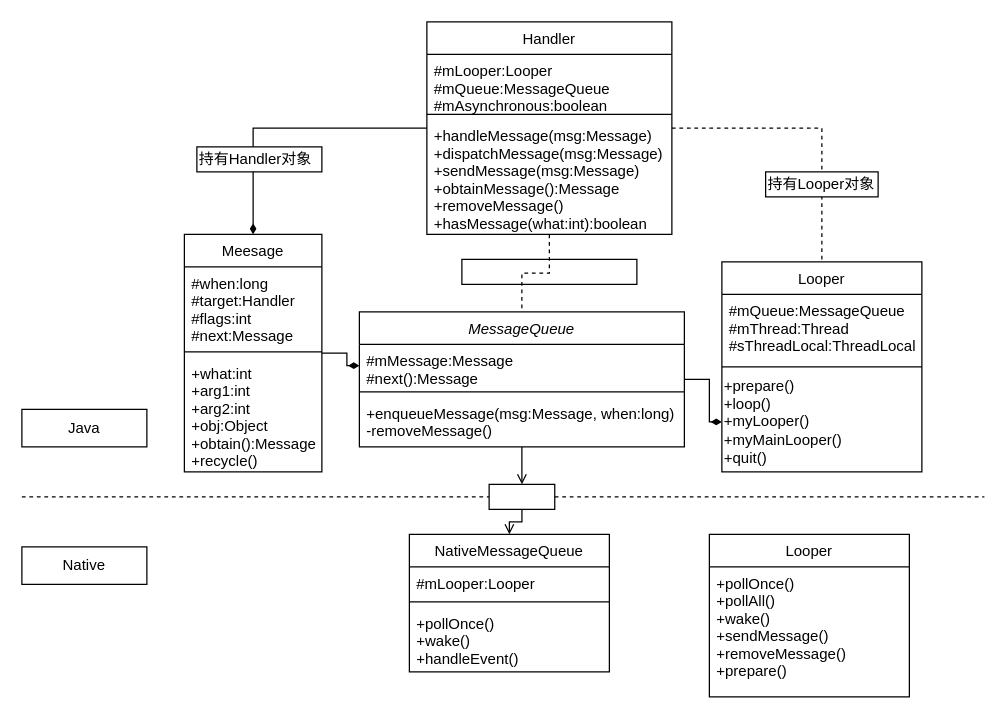
This 1008x723 diagram has some shape labels left out. The centre of each missing label's shape, as x and y in pixels:
"JNI" goes at point (521, 496).
"持有MessageQueue对象" goes at point (549, 271).
